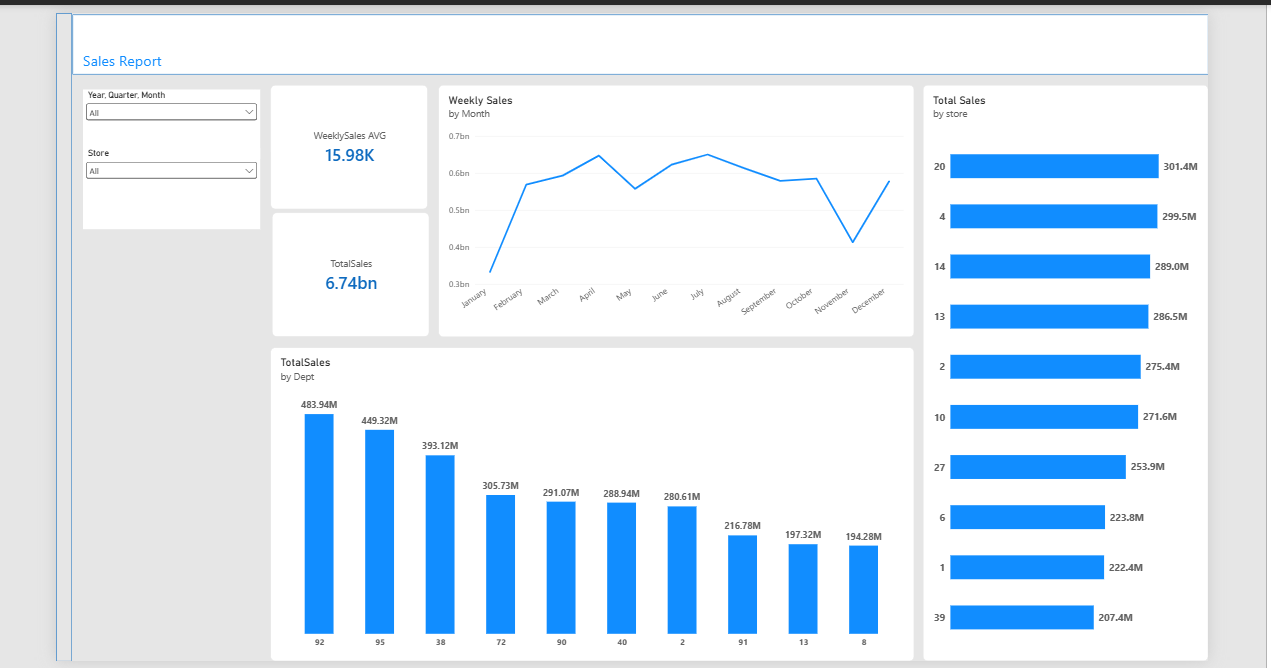

Layout of this report page (visuals, bound fields, positions):
{"tool":"powerbi","page":{"name":"Walmart Dashboard","canvas":[1920,1080],"ordinal":0},"visuals":[{"type":"shape","box":[26.8,2.4,1893.3,100],"z":0},{"type":"shape","box":[0,0,26.8,1080.8],"z":1000},{"type":"textbox","box":[43.9,63.4,261.1,39],"z":2000},{"type":"shape","box":[360,120,260,207.5],"z":3000},{"type":"shape","box":[357.5,332.5,262.5,207.5],"z":4000},{"type":"cardVisual","fields":{"Data":["walmart_train_cleaned.TotalSales"]},"box":[360,332.5,262.5,207.5],"z":5000},{"type":"cardVisual","fields":{"Data":["walmart_train_cleaned.WeeklySales AVG"]},"box":[357.5,120,262.5,207.5],"z":6000},{"type":"lineChart","fields":{"Category":["walmart_train_cleaned.Date.Variation.Date Hierarchy.Month"],"Y":["Sum(walmart_train_cleaned.Weekly_Sales)"]},"box":[637.5,120,792.5,420],"z":7000},{"type":"clusteredColumnChart","fields":{"Category":["walmart_train_cleaned.Dept"],"Y":["walmart_train_cleaned.TotalSales"]},"box":[357.5,557.5,1072.5,522.5],"z":8000},{"type":"clusteredBarChart","fields":{"Category":["BestWorstStore.store"],"Y":["Sum(BestWorstStore.Total Sales)"]},"box":[1445,120,475,960],"z":9000},{"type":"slicer","fields":{"Values":["walmart_train_cleaned.Date.Variation.Date Hierarchy.Year","walmart_train_cleaned.Date.Variation.Date Hierarchy.Quarter","walmart_train_cleaned.Date.Variation.Date Hierarchy.Month"]},"box":[45,127.5,295,115],"z":10000},{"type":"slicer","fields":{"Values":["walmart_train_cleaned.Store"]},"box":[45,225,295,135],"z":11000}]}

Visuals, with their boxes on the page's 1920x1080 design canvas (x1, y1, x2, y2). These are canvas units, not pixel positions in the 1271x668 screenshot, which may show the page scaled, cropped or inside an application window:
shape: <bbox>27, 2, 1920, 102</bbox>
shape: <bbox>0, 0, 27, 1081</bbox>
textbox: <bbox>44, 63, 305, 102</bbox>
shape: <bbox>360, 120, 620, 328</bbox>
shape: <bbox>358, 332, 620, 540</bbox>
cardVisual - walmart_train_cleaned.TotalSales: <bbox>360, 332, 622, 540</bbox>
cardVisual - walmart_train_cleaned.WeeklySales AVG: <bbox>358, 120, 620, 328</bbox>
lineChart - walmart_train_cleaned.Date.Variation.Date Hierarchy.Month x Sum(walmart_train_cleaned.Weekly_Sales): <bbox>638, 120, 1430, 540</bbox>
clusteredColumnChart - walmart_train_cleaned.Dept x walmart_train_cleaned.TotalSales: <bbox>358, 558, 1430, 1080</bbox>
clusteredBarChart - BestWorstStore.store x Sum(BestWorstStore.Total Sales): <bbox>1445, 120, 1920, 1080</bbox>
slicer - walmart_train_cleaned.Date.Variation.Date Hierarchy.Year x walmart_train_cleaned.Date.Variation.Date Hierarchy.Quarter: <bbox>45, 128, 340, 242</bbox>
slicer - walmart_train_cleaned.Store: <bbox>45, 225, 340, 360</bbox>
